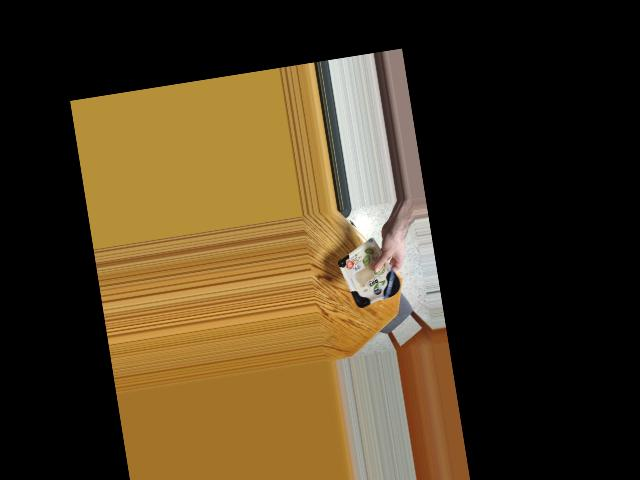cheese: (337, 244, 405, 311)
